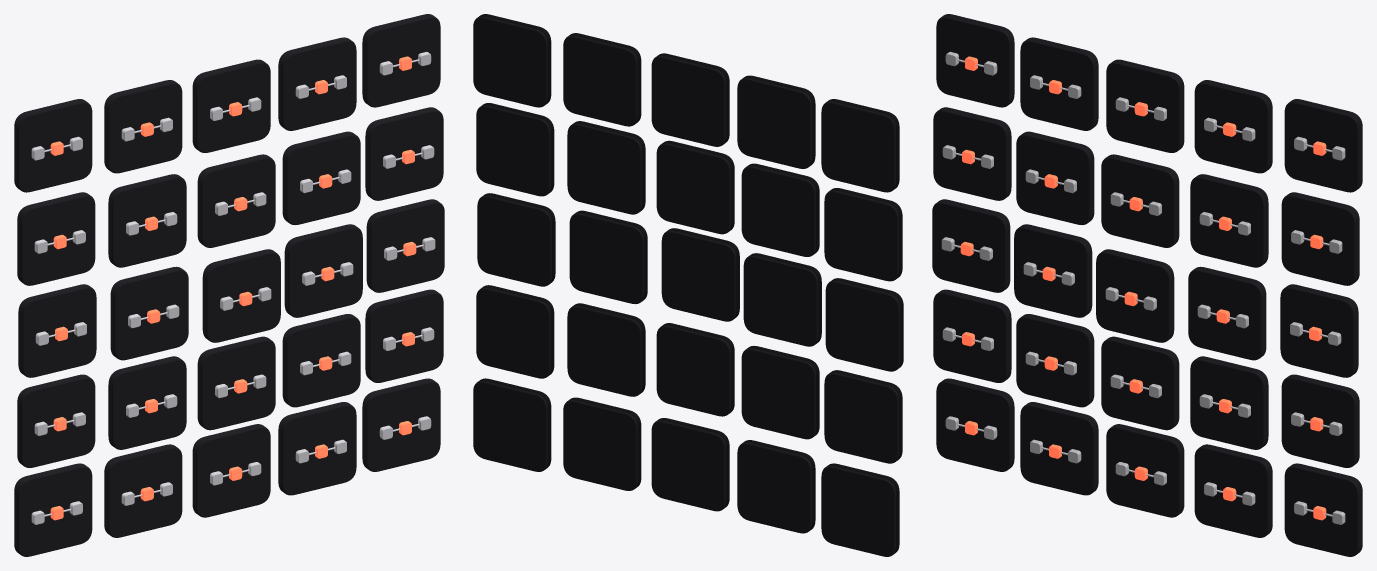
The model's file is scale-field.glb.
3 views of the same model, side by side, from view 1: azimuth 30°, elevation 25°; view 2: azimuth 150°, elevation 25°; view 3: azimuth 330°, elevation 25° (orthographic).
Parts seen in each view (by area): view 1: tile-0-0, tile-3-1, tile-3-2, tile-4-2, tile-1-2, tile-0-4, tile-0-1, tile-2-2, tile-1-1, tile-2-0, tile-3-0, tile-0-2 (+13 smaller); view 2: tile-0-1, tile-3-2, tile-3-3, tile-2-4, tile-0-0, tile-1-0, tile-3-1, tile-4-2, tile-1-3, tile-1-4, tile-1-2, tile-4-3 (+13 smaller); view 3: tile-4-0, tile-1-1, tile-0-2, tile-1-2, tile-3-2, tile-4-4, tile-4-1, tile-2-2, tile-3-1, tile-1-0, tile-2-0, tile-4-2 (+13 smaller).
Part boxes in pixels (left/top/right/bottom): tile-0-0: left=14, top=463, right=92, bottom=556; tile-3-1: left=282, top=314, right=360, bottom=407; tile-3-2: left=284, top=224, right=362, bottom=317; tile-4-2: left=366, top=199, right=444, bottom=292; tile-1-2: left=110, top=266, right=188, bottom=360; tile-0-4: left=14, top=99, right=92, bottom=192; tile-0-1: left=17, top=374, right=95, bottom=467; tile-2-2: left=202, top=249, right=280, bottom=342; tile-1-1: left=108, top=356, right=186, bottom=449; tile-2-0: left=192, top=424, right=270, bottom=517; tile-3-0: left=278, top=402, right=356, bottom=495; tile-0-2: left=18, top=284, right=96, bottom=377; tile-0-1: left=824, top=370, right=902, bottom=463; tile-3-2: left=569, top=210, right=647, bottom=304; tile-3-3: left=567, top=121, right=645, bottom=214; tile-2-4: left=651, top=53, right=729, bottom=146; tile-0-0: left=821, top=463, right=899, bottom=556; tile-1-0: left=737, top=440, right=815, bottom=533; tile-3-1: left=567, top=303, right=645, bottom=396; tile-4-2: left=477, top=193, right=555, bottom=286; tile-1-3: left=741, top=163, right=819, bottom=256; tile-1-4: left=737, top=75, right=815, bottom=168; tile-1-2: left=743, top=253, right=821, bottom=346; tile-4-3: left=476, top=103, right=554, bottom=196; tile-4-0: left=1284, top=463, right=1362, bottom=556; tile-1-1: left=1016, top=314, right=1094, bottom=407; tile-0-2: left=932, top=199, right=1010, bottom=292; tile-1-2: left=1014, top=224, right=1092, bottom=317; tile-3-2: left=1188, top=266, right=1266, bottom=360; tile-4-4: left=1284, top=99, right=1362, bottom=192; tile-4-1: left=1281, top=374, right=1359, bottom=467; tile-2-2: left=1096, top=249, right=1174, bottom=342; tile-3-1: left=1190, top=356, right=1268, bottom=449; tile-1-0: left=1020, top=402, right=1098, bottom=495; tile-2-0: left=1106, top=424, right=1184, bottom=517; tile-4-2: left=1280, top=284, right=1358, bottom=377.
Size of the model in its own units: 3.98 by 3.98 by 0.3657.
